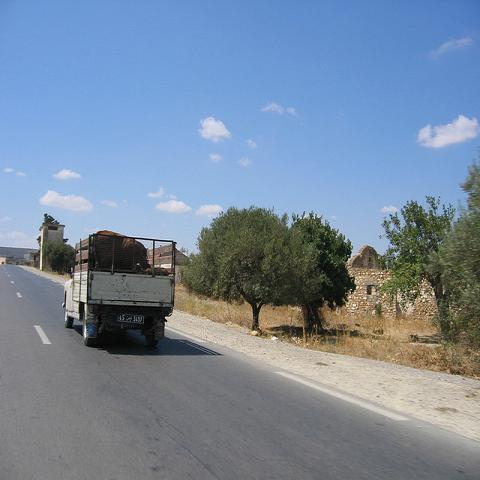truck: (63, 234, 176, 349)
